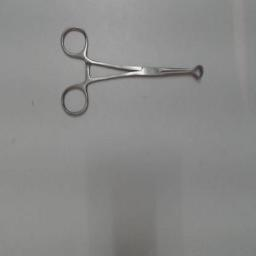Babcock Tissue Forceps: (58, 22, 206, 120)
